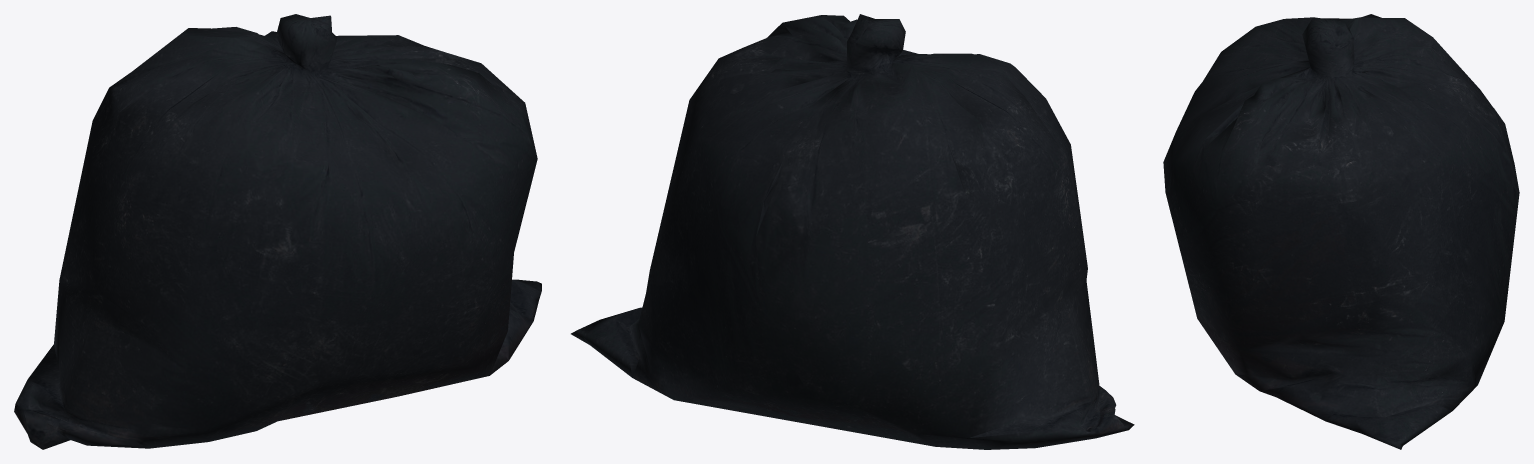
The model's file is trash_bag_vcblbchga_low.glb.
3 views of the same model, side by side, from view 1: azimuth 30°, elevation 25°; view 2: azimuth 150°, elevation 25°; view 3: azimuth 270°, elevation 25° (orthographic). The views are drawn at different scales.
Parts seen in each view (by area): view 1: vcblbchga_LOD0_TIER3_000; view 2: vcblbchga_LOD0_TIER3_000; view 3: vcblbchga_LOD0_TIER3_000.
Part boxes in pixels (x1,y1,x2,y2): vcblbchga_LOD0_TIER3_000: [14, 14, 541, 449]; vcblbchga_LOD0_TIER3_000: [571, 14, 1134, 449]; vcblbchga_LOD0_TIER3_000: [1163, 14, 1519, 449].
Bounding box in the file's own units: 0.6816 × 0.4403 × 0.4507.
1 material, 1 textured.
